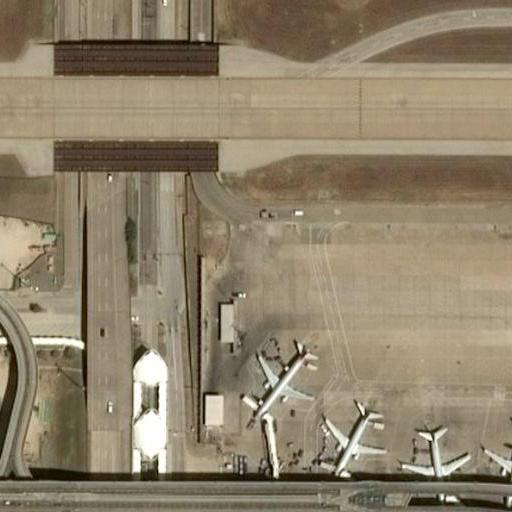Aircraft: (241, 341, 316, 420), (322, 398, 390, 481), (397, 416, 472, 487), (482, 414, 512, 491)
